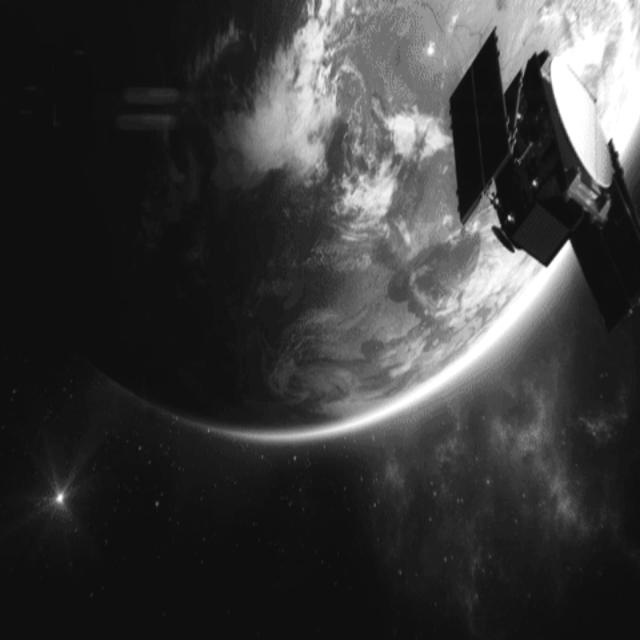medium_debris: (439, 24, 636, 328)
